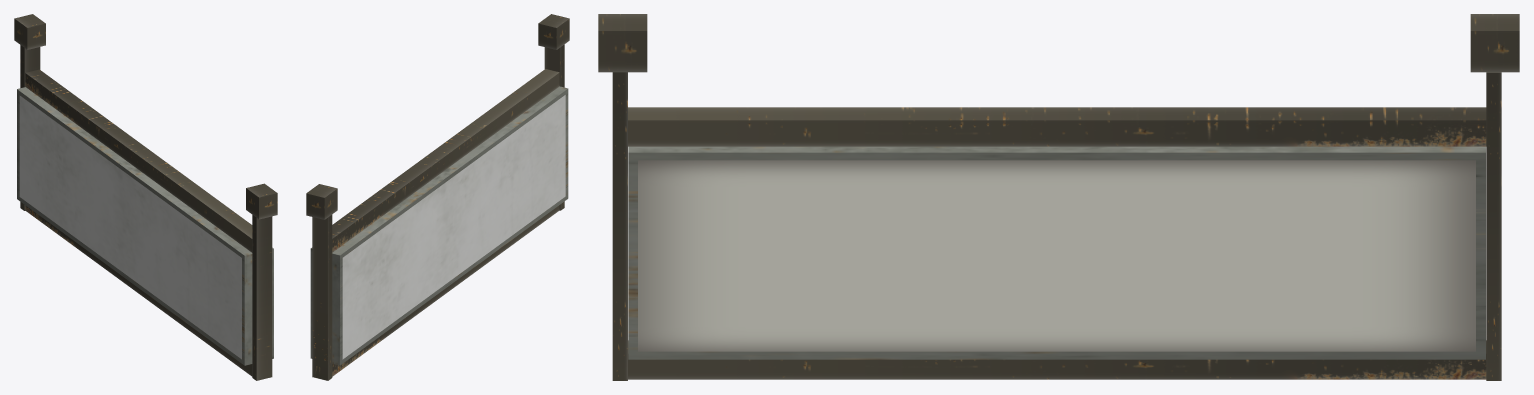
Rendered from raincover06c.fbx.
3 views of the same model, side by side, from view 1: azimuth 30°, elevation 25°; view 2: azimuth 150°, elevation 25°; view 3: azimuth 270°, elevation 25° (orthographic). The views are drawn at different scales.
Visible parts, largest first — view 1: raincover06c; view 2: raincover06c; view 3: raincover06c.
Boxes of the visible parts, x1=… form: raincover06c: x1=14, y1=14, x2=277, y2=380; raincover06c: x1=306, y1=14, x2=569, y2=380; raincover06c: x1=598, y1=14, x2=1519, y2=380.
Size of the model in its own units: 30.21 by 184 by 438.
